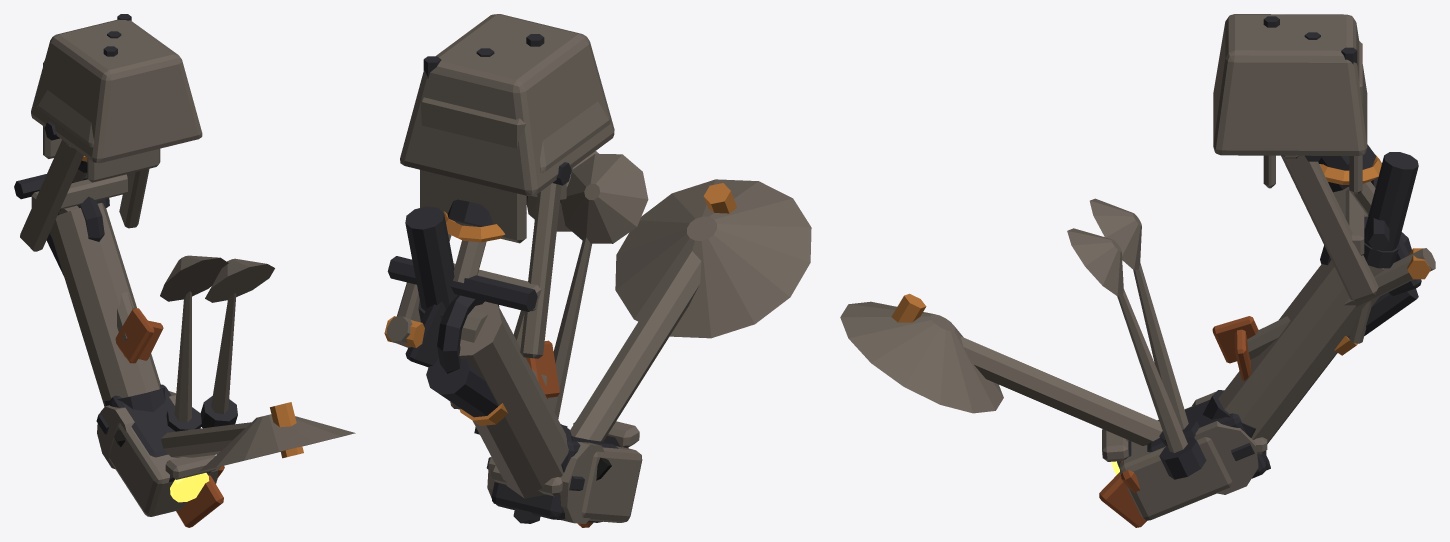
Rendered from ar_scanner.glb.
3 views of the same model, side by side, from view 1: azimuth 30°, elevation 25°; view 2: azimuth 150°, elevation 25°; view 3: azimuth 270°, elevation 25° (orthographic). The views are drawn at different scales.
Visible parts, largest first — view 1: ar_scanner; view 2: ar_scanner; view 3: ar_scanner.
Part boxes in pixels (left/top/right/bottom): ar_scanner: left=14, top=14, right=355, bottom=527; ar_scanner: left=384, top=14, right=811, bottom=527; ar_scanner: left=840, top=14, right=1435, bottom=527.
Bounding box in the file's own units: 0.1285 × 0.3801 × 0.4131.
